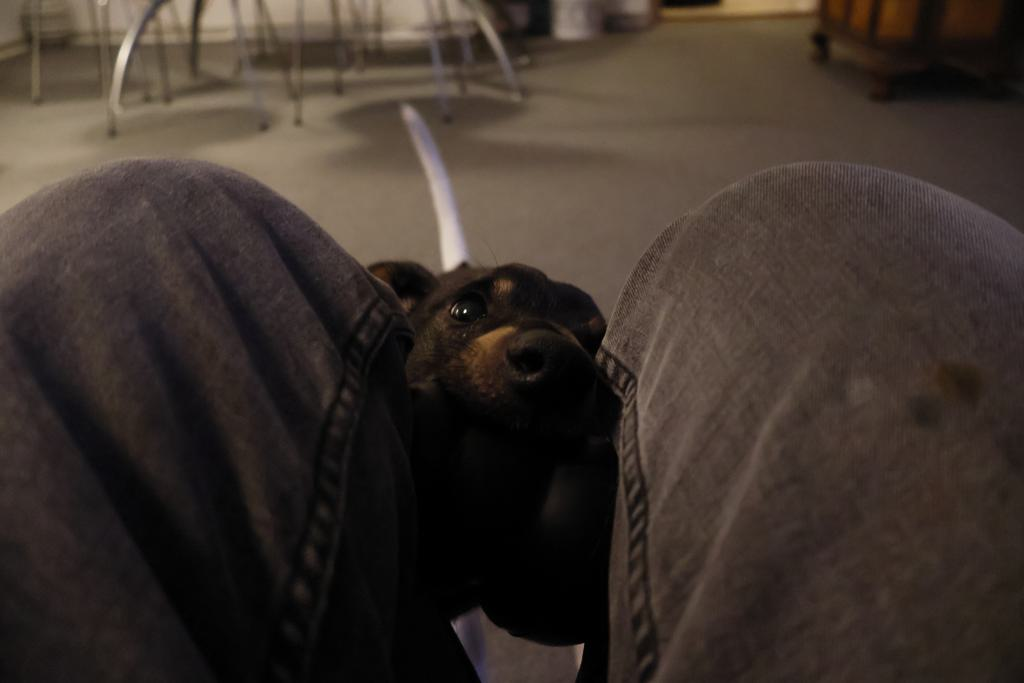Dog: (343, 90, 632, 683)
Humanoid: (0, 148, 1024, 683)
